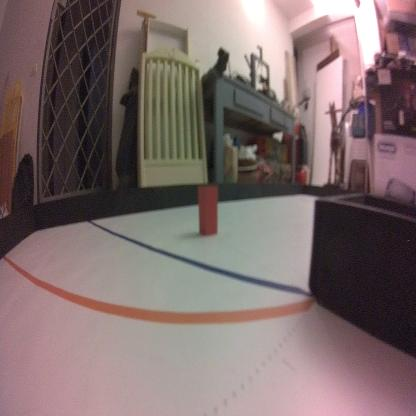red: (196, 183, 218, 237)
